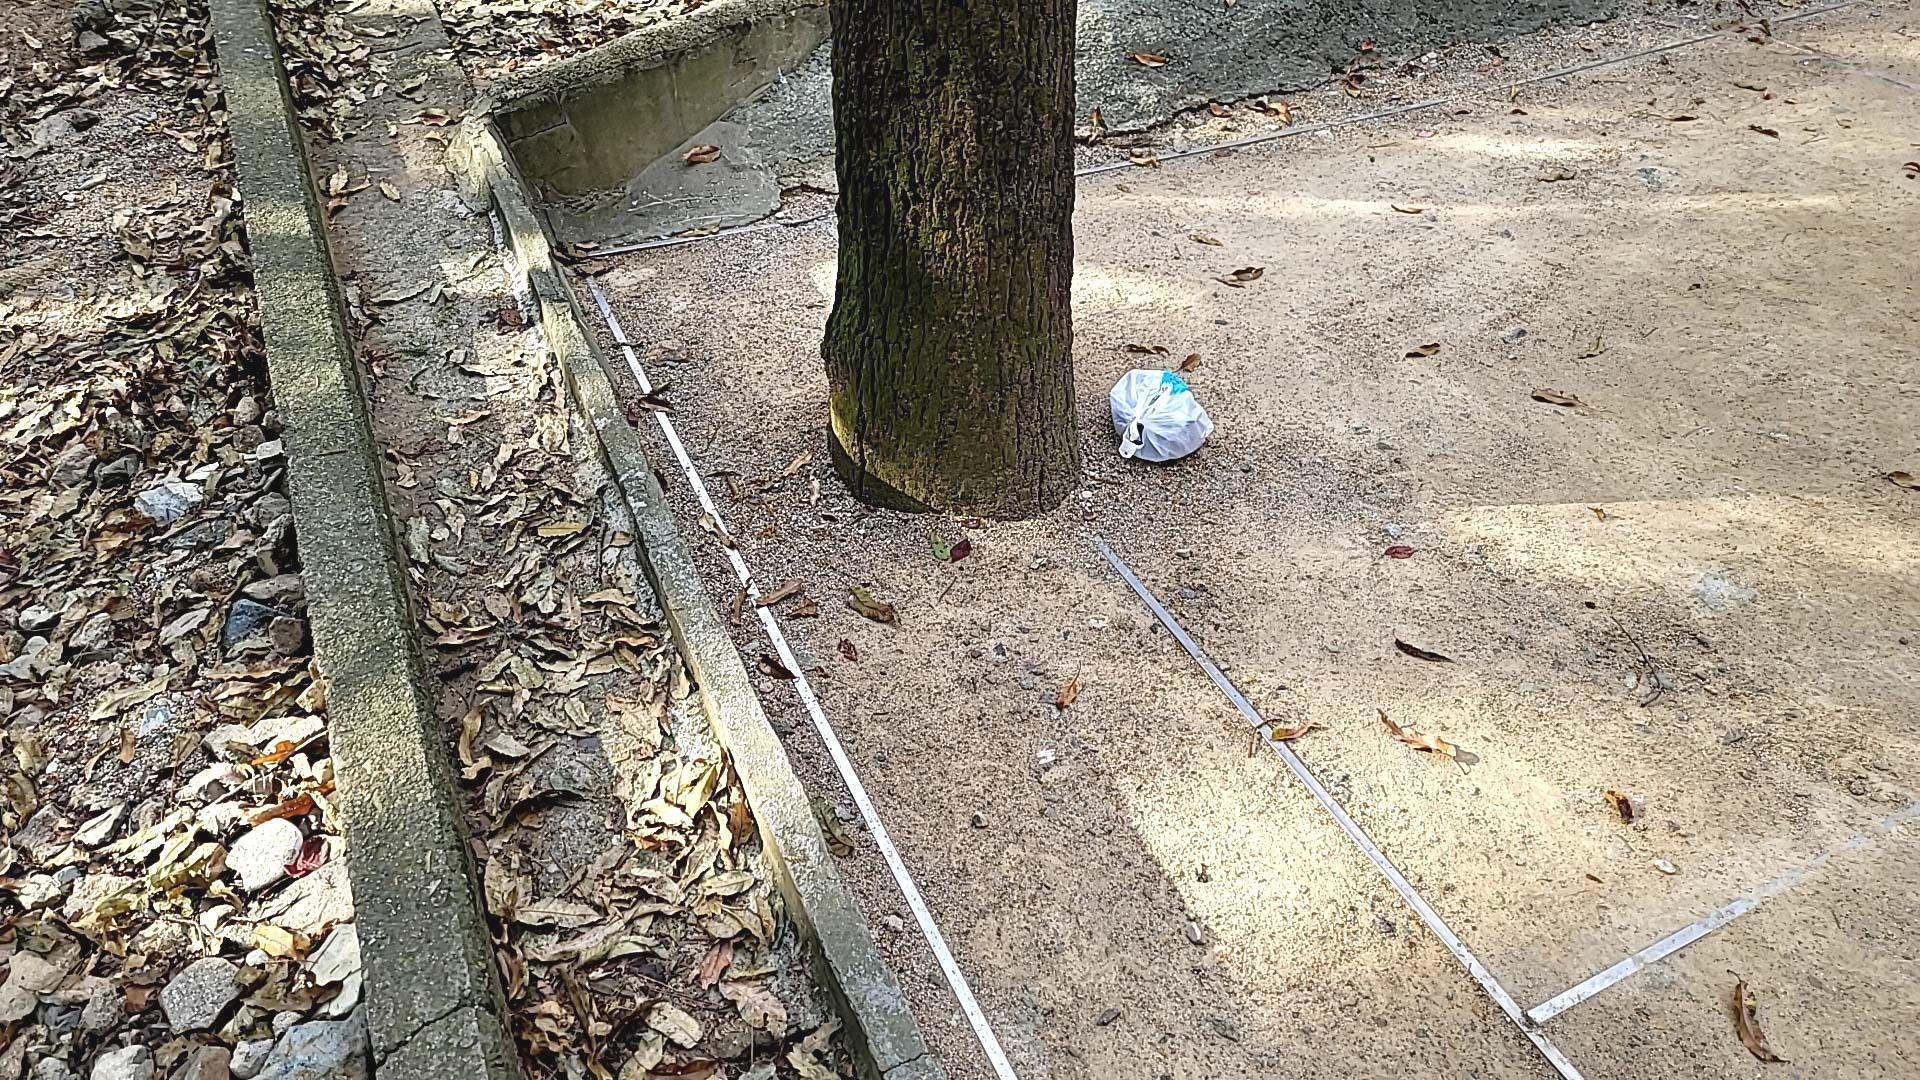white_bag: (1101, 357, 1222, 481)
